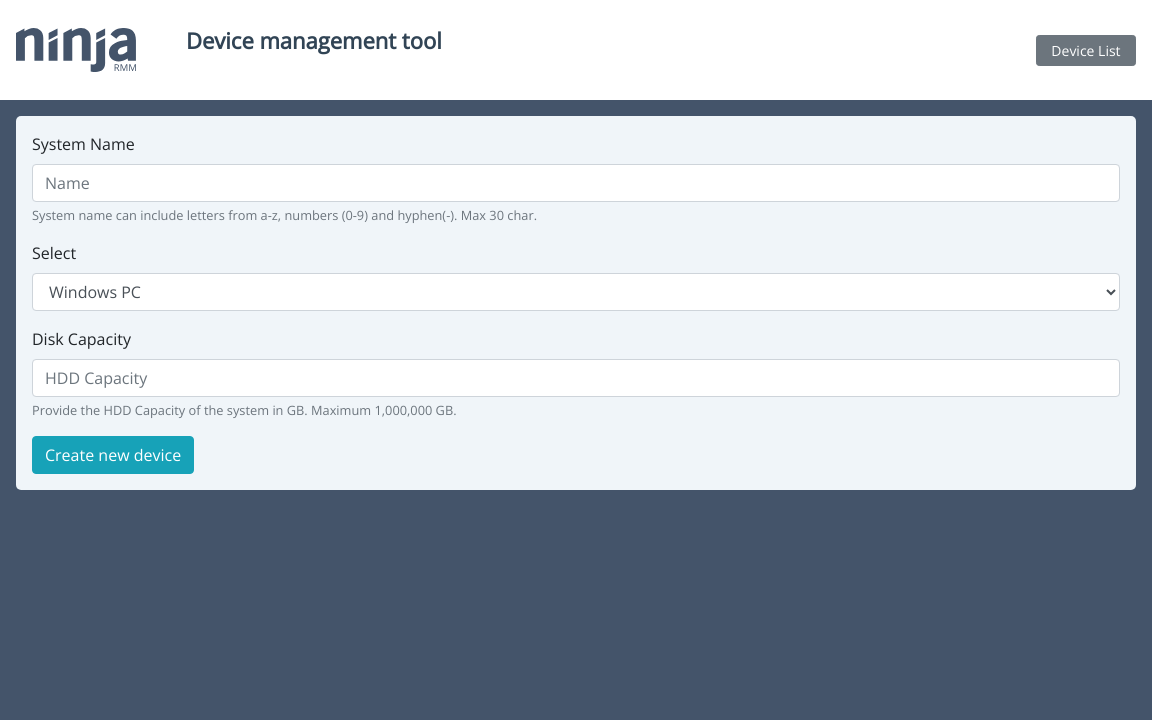
Test: Test sending and empty or incomplete form › Tests sending an empty form
Click the submit button: (113,455) [32,436,194,474]
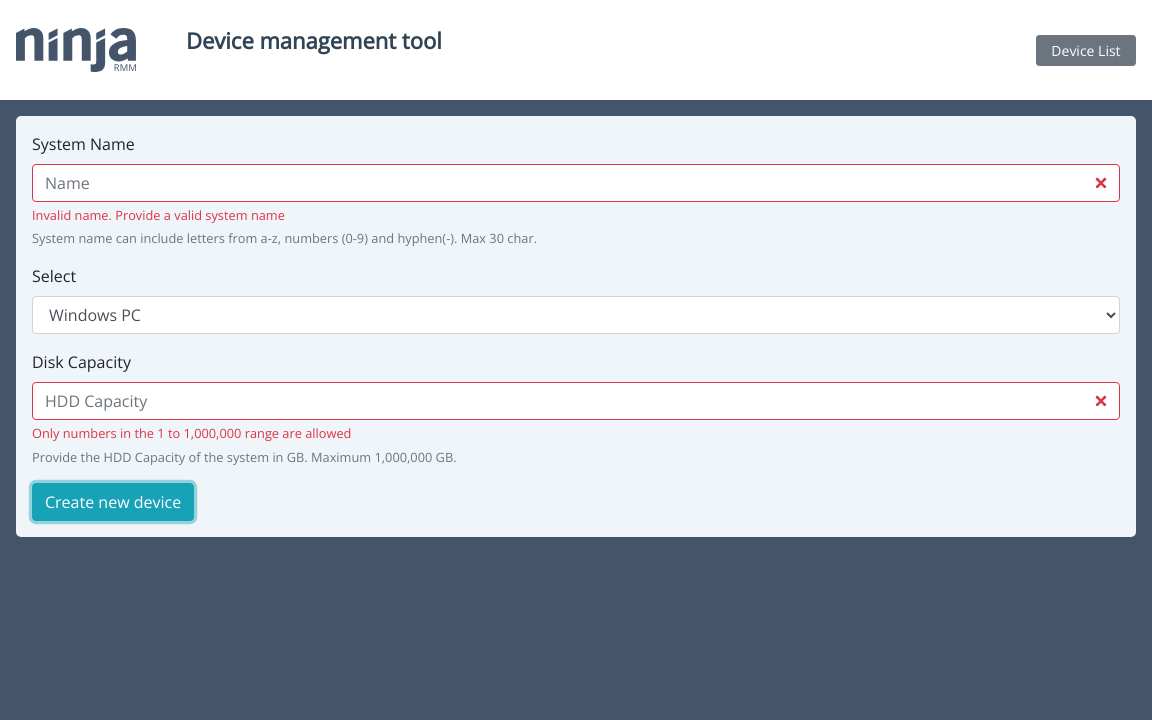
Expected: the number of elements with class "invalid-feedback" is 2, [32,206,285,224]; [32,424,351,442]
Expected: the text "Invalid name. Provide a valid system name" is shown, [32,206,285,224]
Expected: the text "Only numbers in the 1 to 1,000,000 range are allowed" is shown, [32,424,351,442]
